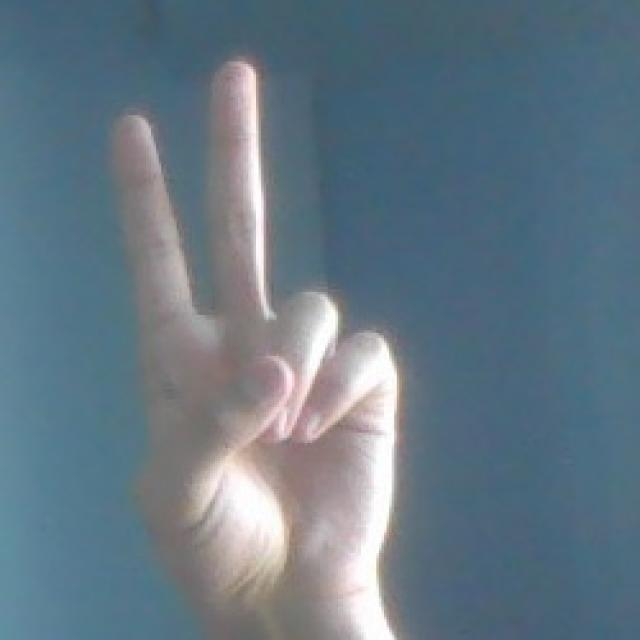Numeric-2: (106, 57, 398, 584)
